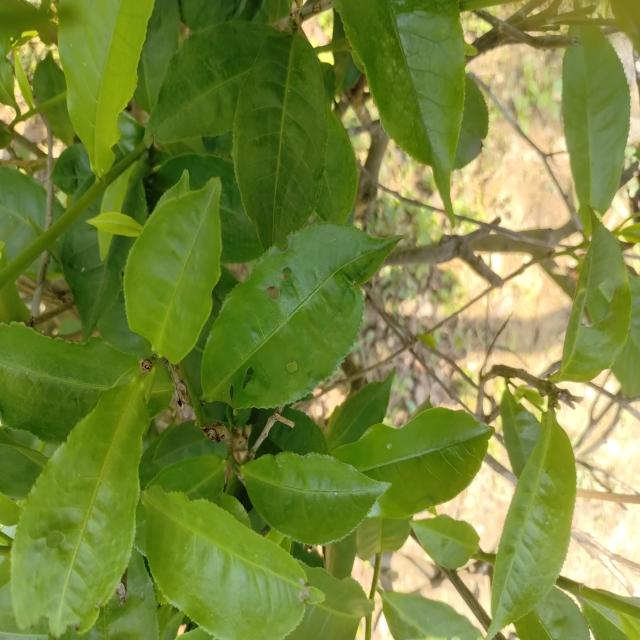Leaf: (201, 223, 399, 409), (11, 374, 149, 636), (334, 0, 465, 224), (141, 485, 323, 640), (232, 31, 327, 249), (487, 411, 576, 640), (124, 174, 222, 364), (333, 408, 493, 518), (58, 0, 154, 178), (0, 323, 140, 443), (148, 21, 279, 143), (240, 451, 390, 544), (551, 214, 631, 382), (562, 25, 630, 214), (148, 153, 263, 264), (59, 192, 135, 340), (62, 549, 159, 640), (285, 566, 373, 640), (326, 369, 394, 451), (134, 0, 180, 114), (381, 591, 483, 640), (315, 109, 357, 224), (147, 421, 226, 479), (0, 166, 47, 262), (514, 587, 590, 640), (149, 454, 226, 505), (410, 515, 479, 568), (500, 387, 540, 477), (257, 407, 328, 457), (611, 275, 640, 397), (0, 428, 48, 499), (453, 76, 488, 169), (356, 517, 411, 559), (52, 144, 95, 195), (582, 600, 628, 640), (33, 51, 66, 104), (40, 97, 75, 146), (100, 165, 134, 214), (87, 212, 142, 237), (13, 47, 34, 108), (148, 371, 173, 419), (123, 178, 147, 222), (249, 409, 274, 446), (72, 174, 95, 204), (134, 499, 146, 555), (96, 227, 113, 261), (47, 255, 62, 277), (53, 196, 64, 221)
